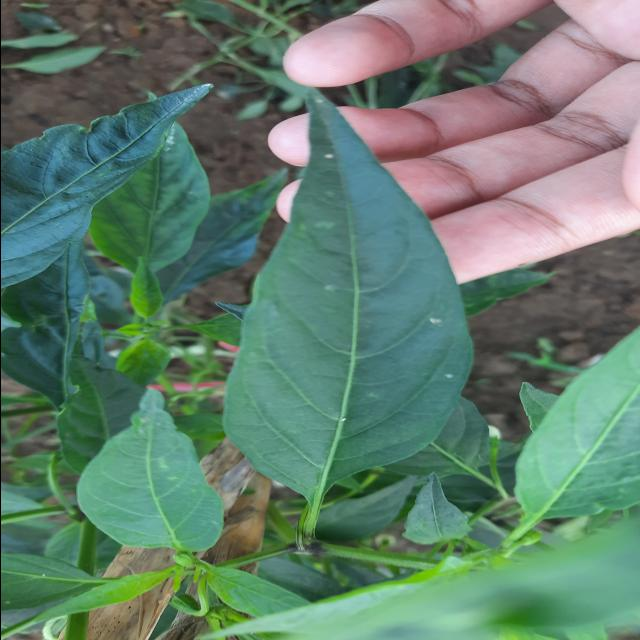sehat: (226, 110, 472, 498), (70, 396, 222, 558)
